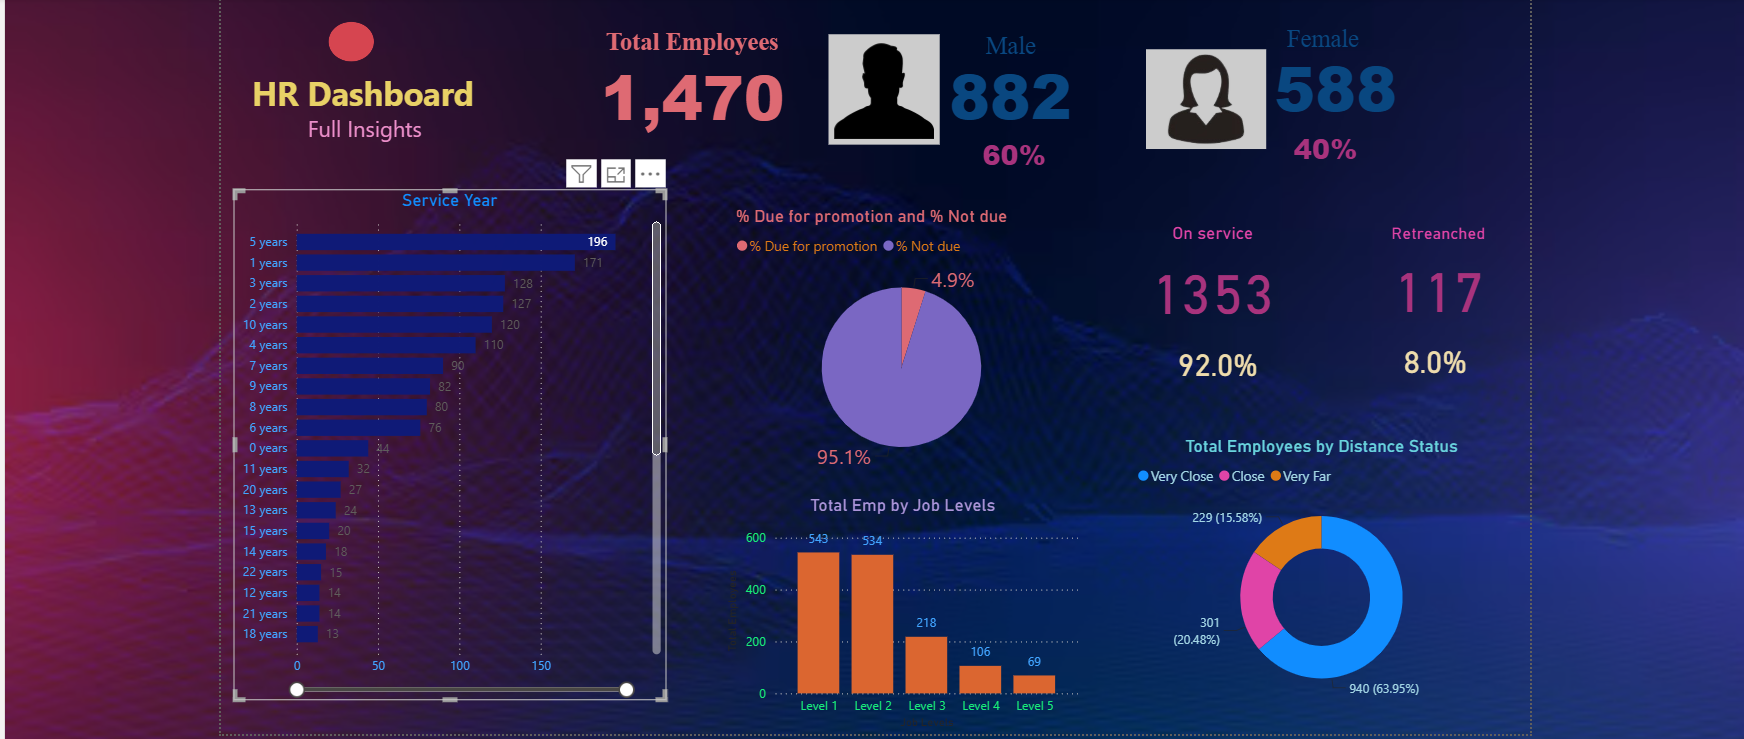

What the dashboard file says about the page in this screenshot:
{"tool":"powerbi","page":{"name":"Home","canvas":[1280,720],"ordinal":0},"visuals":[{"type":"textbox","box":[13,66.5,250.7,53.8],"z":11000},{"type":"textbox","box":[27.7,108.1,225,40.4],"z":12000},{"type":"shape","box":[105.8,22.9,44.5,39],"z":13000},{"type":"card","fields":{"Values":["All Measures.Total Emp"]},"box":[350.7,25.4,221.4,136.1],"z":14000},{"type":"card","fields":{"Values":["All Measures.Male"]},"box":[701.4,36.1,141.3,111.1],"z":15000},{"type":"card","fields":{"Values":["All Measures.% male"]},"box":[739.9,126.7,72.7,54.9],"z":16000},{"type":"textbox","box":[339,24.7,244.3,50.7],"z":17000},{"type":"textbox","box":[735.7,27.9,72.7,43.9],"z":18000},{"type":"card","fields":{"Values":["All Measures.Female"]},"box":[1020.6,40.2,139.2,89.1],"z":19000},{"type":"card","fields":{"Values":["All Measures.% Female"]},"box":[1040.4,126.8,80.4,42.1],"z":20000},{"type":"textbox","box":[1016.5,21.8,123.5,44],"z":21000},{"type":"image","box":[593.8,35.9,108.9,107.6],"z":22000},{"type":"image","box":[905.3,50,117.4,97.8],"z":23000},{"type":"pieChart","fields":{"Y":["All Measures.% Due for promotion","All Measures.% Not due"]},"box":[498.9,203,333.8,267.8],"z":24000},{"type":"barChart","title":"Service Year","fields":{"Category":["HR Analytics Data.Service Year"],"Y":["CountNonNull(HR Analytics Data.Job Levels)"]},"box":[12.2,187.1,423.1,500.1],"z":25000},{"type":"clusteredColumnChart","title":"Total Emp by Job Levels","fields":{"Y":["All Measures.Total Employees"],"Category":["HR Analytics Data.Job Levels"]},"box":[490.4,485.5,353.4,234.8],"z":26000},{"type":"donutChart","fields":{"Category":["HR Analytics Data.Distance Status"],"Y":["All Measures.Total Employees"]},"box":[891.4,428,370.5,267.8],"z":27000},{"type":"card","title":"Retreanched","fields":{"Values":["All Measures.Will be retreanched"]},"box":[1105.4,220.1,171.2,103.9],"z":28000},{"type":"card","fields":{"Values":["All Measures.% Will be retreanched"]},"box":[1120.1,320.4,135.7,68.5],"z":29000},{"type":"card","title":"On service","fields":{"Values":["All Measures.On service"]},"box":[881.7,220.1,177.3,106.4],"z":30000},{"type":"card","fields":{"Values":["All Measures.% On service"]},"box":[904.9,326.5,140.6,62.4],"z":31000}]}

Visuals, with their boxes on the page's 1280x720 design canvas (x1, y1, x2, y2). These are canvas units, not pixel positions in the 1744x739 screenshot, which may show the page scaled, cropped or inside an application window:
textbox: x1=13 y1=66 x2=264 y2=120
textbox: x1=28 y1=108 x2=253 y2=148
shape: x1=106 y1=23 x2=150 y2=62
card - All Measures.Total Emp: x1=351 y1=25 x2=572 y2=162
card - All Measures.Male: x1=701 y1=36 x2=843 y2=147
card - All Measures.% male: x1=740 y1=127 x2=813 y2=182
textbox: x1=339 y1=25 x2=583 y2=75
textbox: x1=736 y1=28 x2=808 y2=72
card - All Measures.Female: x1=1021 y1=40 x2=1160 y2=129
card - All Measures.% Female: x1=1040 y1=127 x2=1121 y2=169
textbox: x1=1016 y1=22 x2=1140 y2=66
image: x1=594 y1=36 x2=703 y2=144
image: x1=905 y1=50 x2=1023 y2=148
pieChart - All Measures.% Due for promotion x All Measures.% Not due: x1=499 y1=203 x2=833 y2=471
"Service Year" barChart: x1=12 y1=187 x2=435 y2=687
"Total Emp by Job Levels" clusteredColumnChart: x1=490 y1=486 x2=844 y2=720
donutChart - HR Analytics Data.Distance Status x All Measures.Total Employees: x1=891 y1=428 x2=1262 y2=696
"Retreanched" card: x1=1105 y1=220 x2=1277 y2=324
card - All Measures.% Will be retreanched: x1=1120 y1=320 x2=1256 y2=389
"On service" card: x1=882 y1=220 x2=1059 y2=326
card - All Measures.% On service: x1=905 y1=326 x2=1046 y2=389
